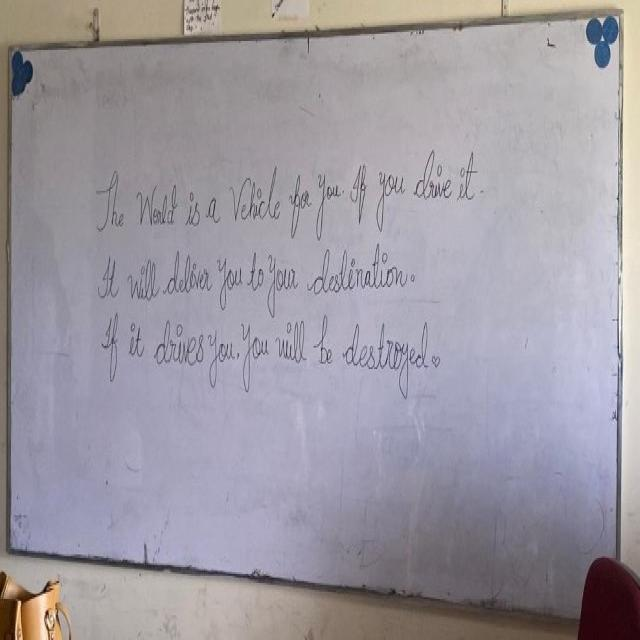White-board: (10, 23, 627, 627)
